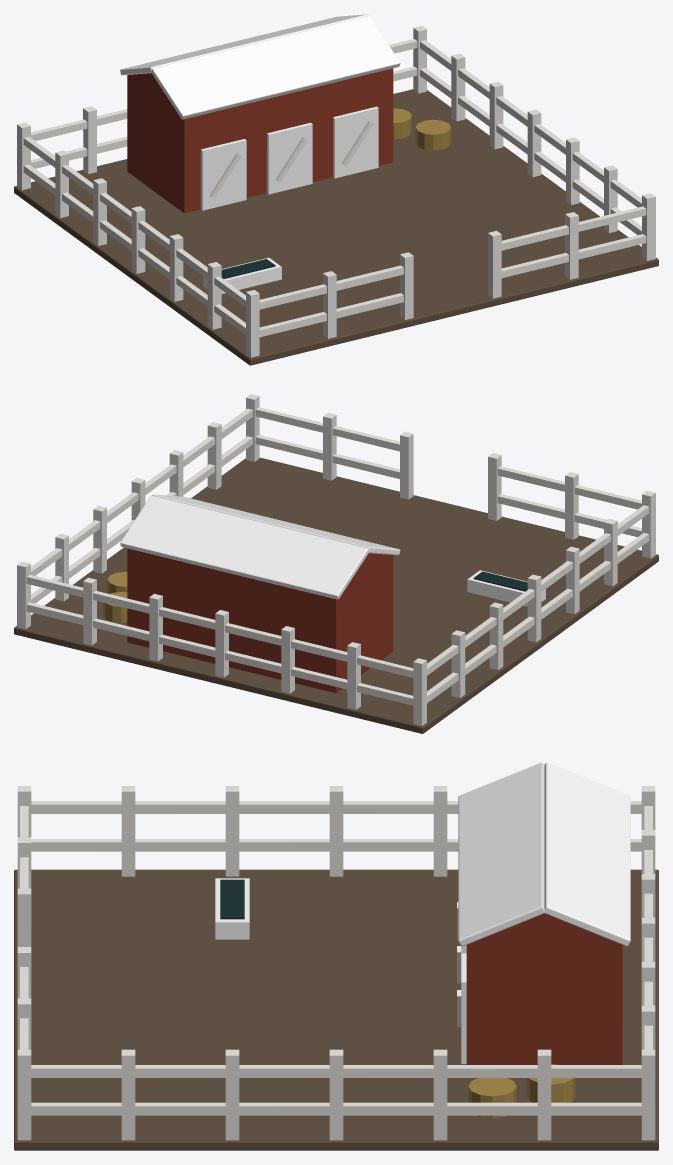
File: atcilik.glb
3 views of the same model, one above another, from view 1: azimuth 30°, elevation 25°; view 2: azimuth 150°, elevation 25°; view 3: azimuth 270°, elevation 25° (orthographic). The views are drawn at different scales.
Visible parts, largest first — view 1: Alin; view 2: Alin; view 3: Alin.
Part boxes in pixels (x1,y1,x2,y2): Alin: (14,14,658,365); Alin: (14,394,658,733); Alin: (14,762,658,1150).
Bounding box in the file's own units: 1 × 0.3089 × 1.
